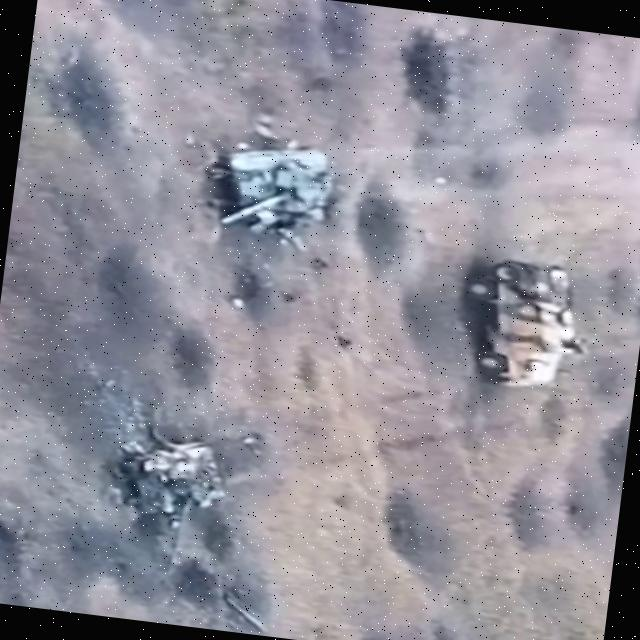Destroyed: (92, 427, 235, 570)
MBT: (200, 134, 352, 245)
Vehicle: (448, 253, 603, 399)
